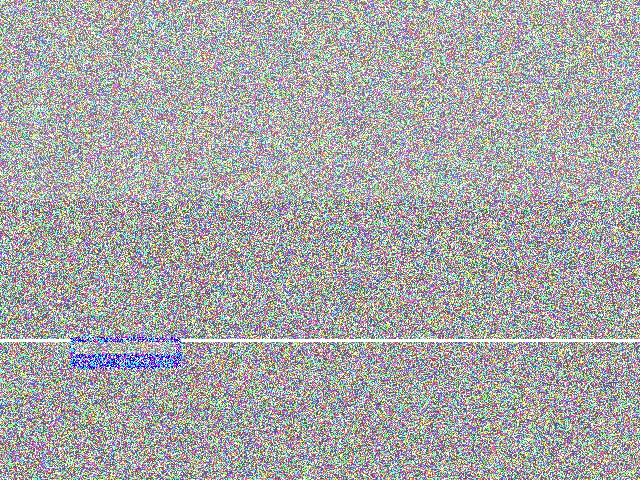bus: (49, 170, 199, 224)
car: (364, 219, 450, 329)
motorcycle: (277, 306, 438, 376)
